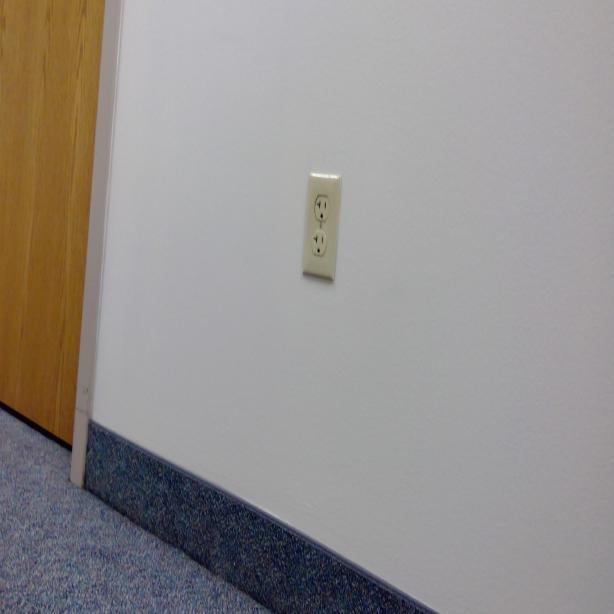typeb: (314, 194, 330, 221), (312, 230, 328, 257)
